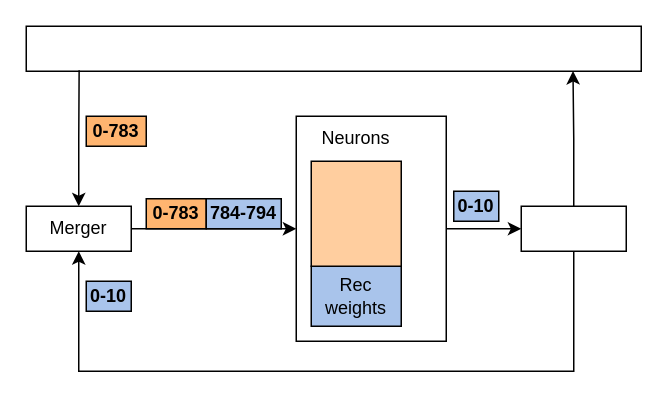
Image size: 668x410. Some labels were removed from this diagram. Here are the shapes that lost their labels. From the top down, the centre of each, then its label:
At point 333,48: "UART".
At point 355,213: "FF weights".
At point 573,228: "Splitter".
